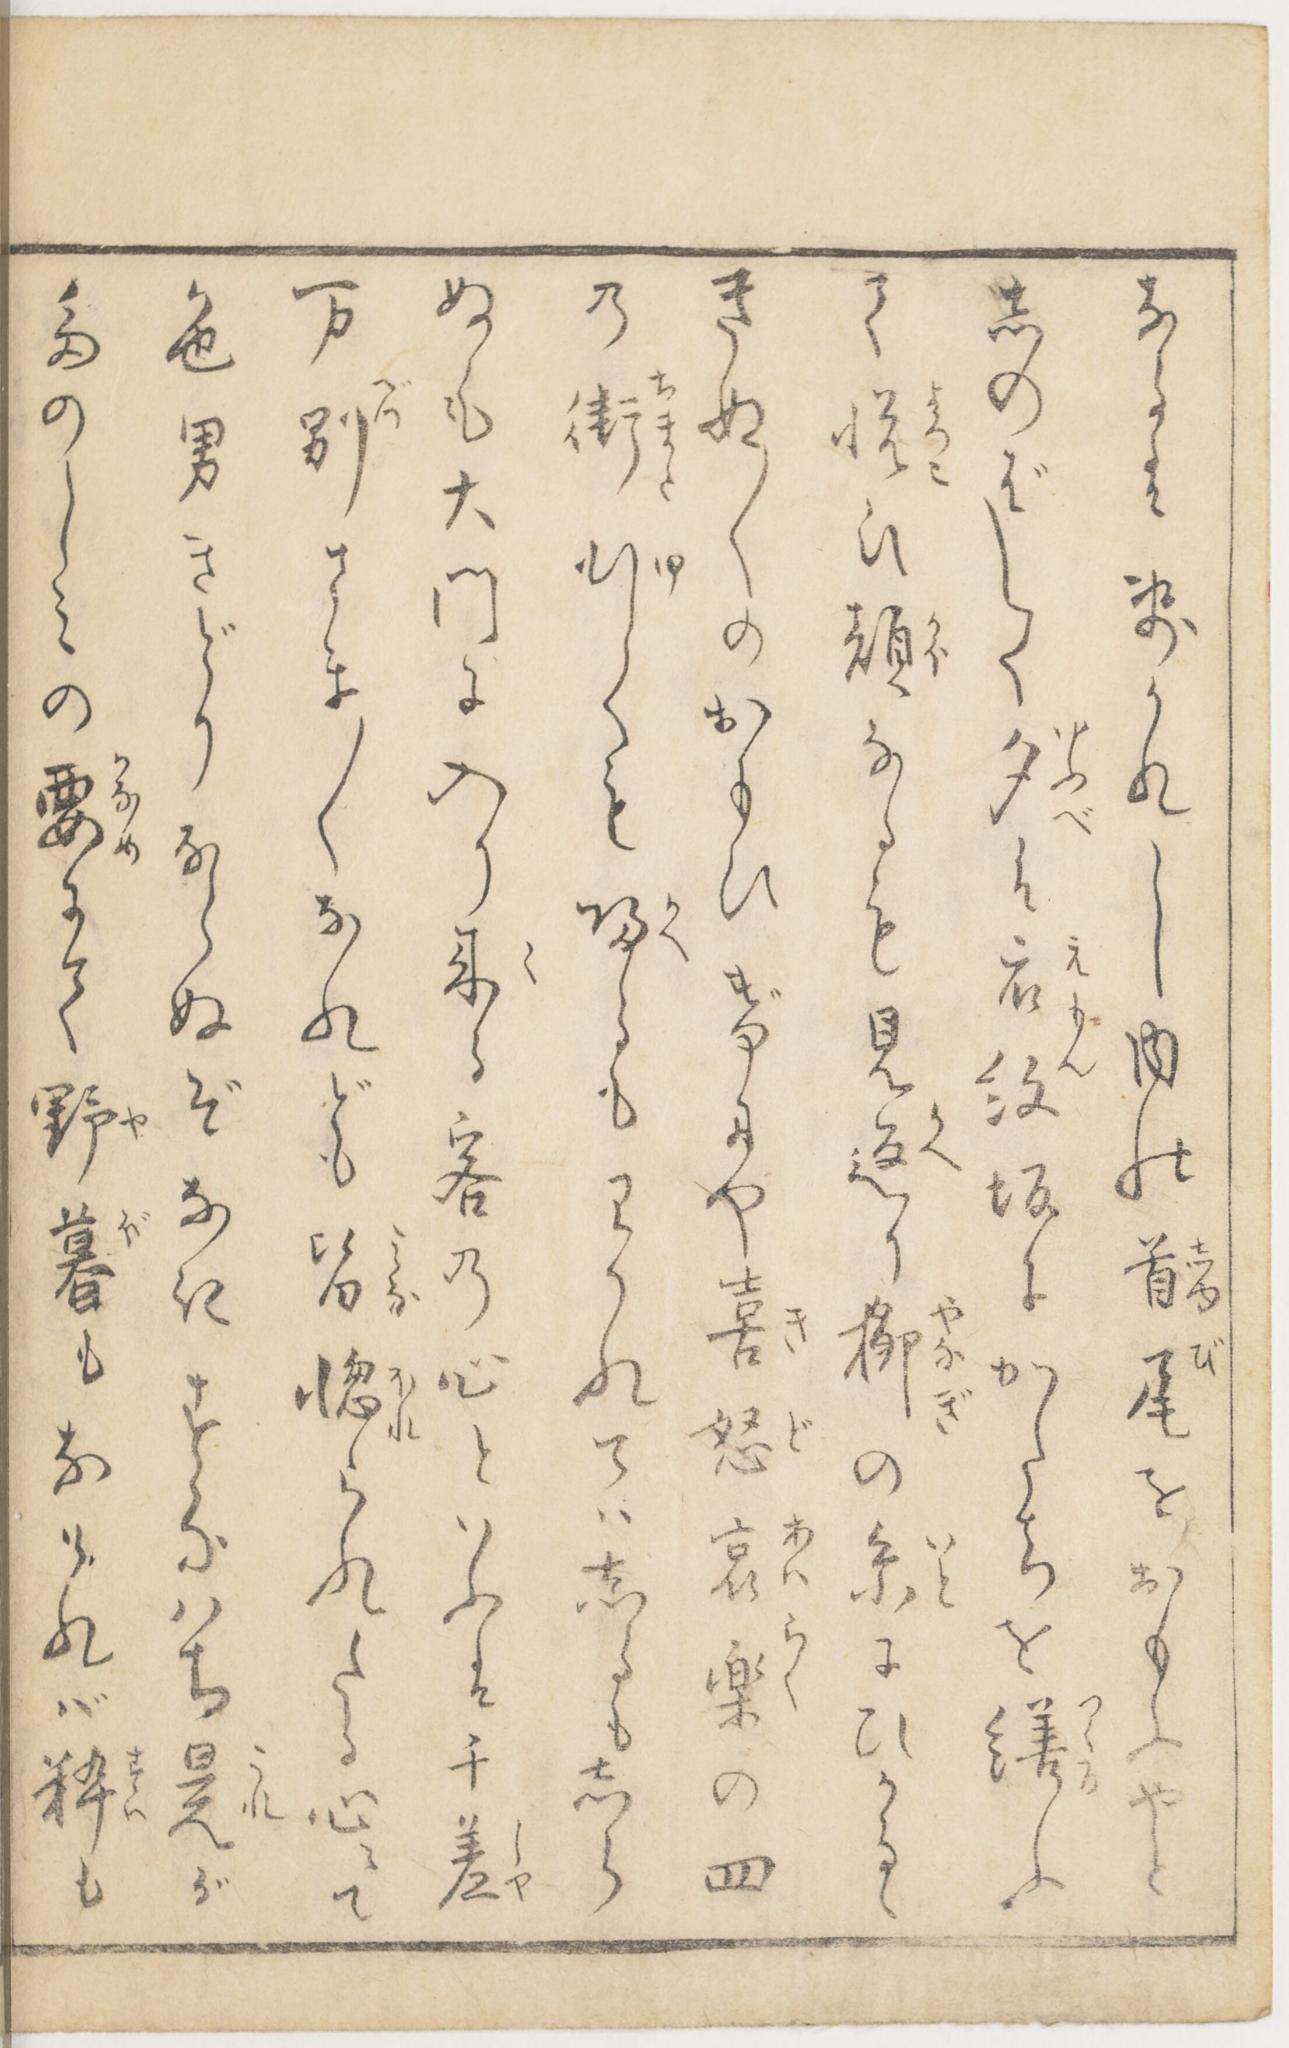MainZone-Character: (276, 368, 422, 511), (555, 370, 699, 500), (841, 1294, 974, 1433), (827, 379, 968, 498), (971, 1007, 1112, 1126), (701, 1608, 823, 1736), (974, 1690, 1123, 1794), (28, 747, 150, 873), (980, 723, 1109, 839), (290, 1344, 431, 1449), (300, 1216, 431, 1328), (165, 1735, 279, 1861), (1124, 1331, 1240, 1448), (432, 1803, 548, 1920), (832, 585, 952, 698), (686, 1393, 820, 1493), (698, 1494, 817, 1604), (31, 1191, 143, 1307), (33, 1736, 149, 1846), (28, 1075, 154, 1172), (573, 879, 698, 974), (846, 1087, 968, 1181), (440, 918, 552, 1016), (1129, 1222, 1236, 1325), (848, 1518, 956, 1614), (983, 927, 1096, 1001)
MainZone-Ruby: (930, 1297, 976, 1435), (1053, 720, 1102, 836), (646, 367, 689, 498), (374, 1351, 429, 1451), (916, 379, 962, 492), (1071, 1689, 1118, 1796), (373, 1219, 422, 1320), (104, 750, 144, 869), (1050, 1007, 1106, 1087), (771, 1607, 814, 1711), (230, 1735, 279, 1822), (775, 1509, 821, 1601), (922, 1521, 967, 1613), (500, 1819, 545, 1910), (1185, 1233, 1231, 1319), (653, 885, 699, 971), (918, 1089, 962, 1173), (371, 365, 420, 437), (119, 1741, 151, 1830), (915, 606, 953, 676), (781, 1402, 823, 1466), (1185, 1332, 1240, 1380), (511, 930, 548, 994), (1059, 931, 1097, 989), (113, 1206, 160, 1252), (120, 1100, 156, 1144)
